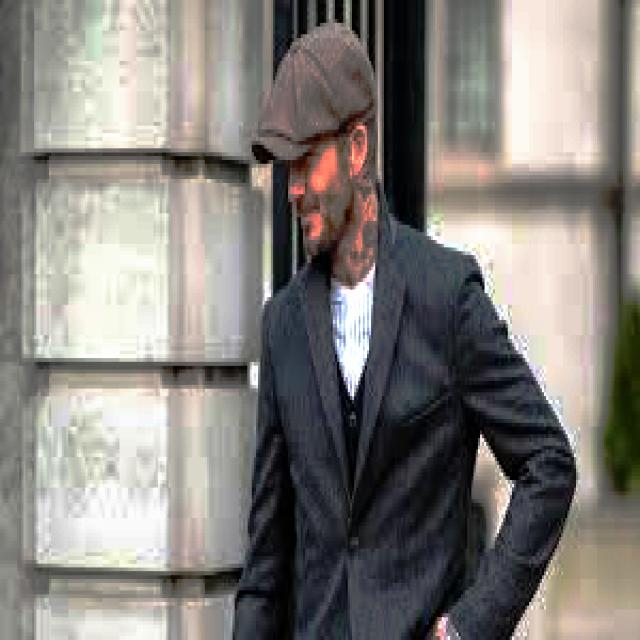TOPI: (247, 19, 380, 164)
